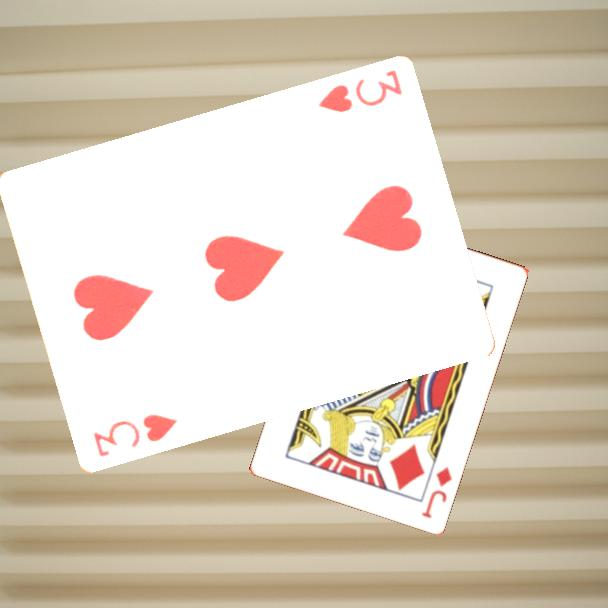d11: (418, 463, 455, 521)
h03: (89, 411, 180, 461), (314, 67, 405, 116)
